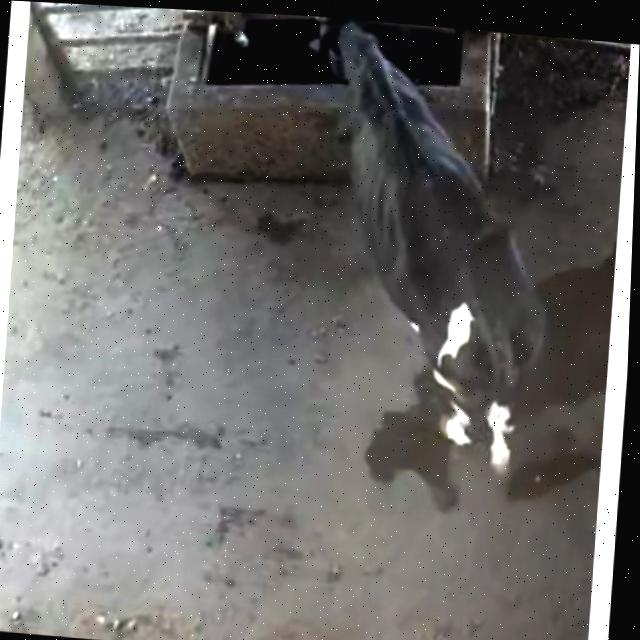drink: (257, 14, 464, 151)
